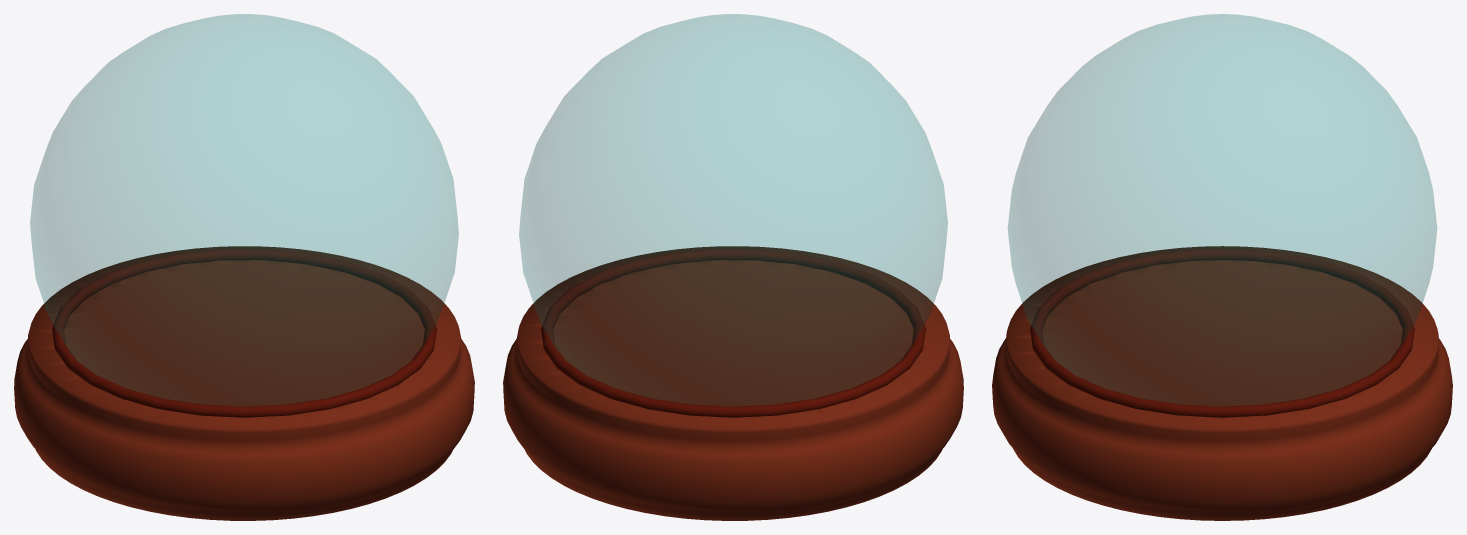
Rendered from sfer.glb.
The picture shows the model from 3 angles, left to right: view 1: azimuth 30°, elevation 25°; view 2: azimuth 150°, elevation 25°; view 3: azimuth 270°, elevation 25°; orthographic projection.
Parts seen in each view (by area): view 1: Сфера; view 2: Сфера; view 3: Сфера.
Boxes of the visible parts, x1,y1,x2,y2 form: Сфера: (14,14,474,520); Сфера: (503,14,963,520); Сфера: (992,14,1452,520).
Size of the model in its own units: 2.15 by 2.07 by 2.15.
